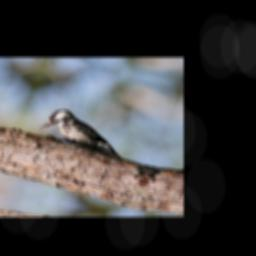Woodpecker: (34, 105, 141, 159)
